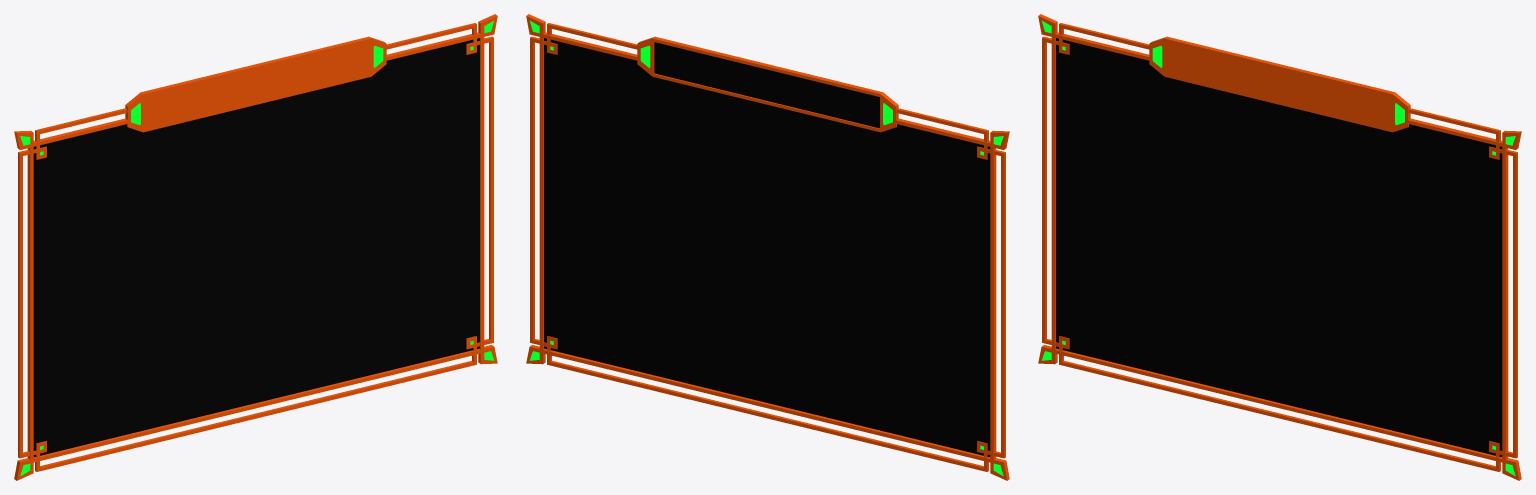
The model's file is Menu3D_Panel_Ornate_Long.glb.
3 renders of one model, left to right at view 1: azimuth 30°, elevation 25°; view 2: azimuth 150°, elevation 25°; view 3: azimuth 330°, elevation 25°, orthographic.
Visible parts, largest first — view 1: ornate-display-long; view 2: ornate-display-long; view 3: ornate-display-long.
Part boxes in pixels (bbox=[...]): ornate-display-long: bbox=[14, 14, 497, 480]; ornate-display-long: bbox=[526, 14, 1009, 480]; ornate-display-long: bbox=[1038, 14, 1521, 480].
Bounding box in the file's own units: 3.23 × 2.29 × 0.03.
